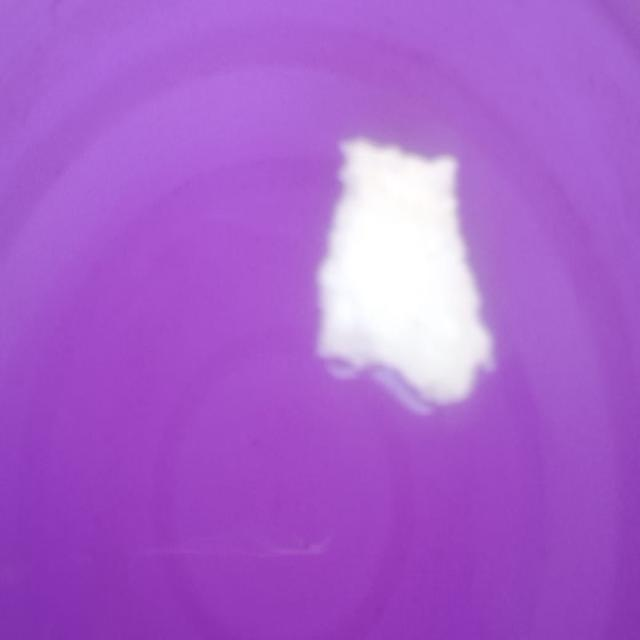litter: (324, 122, 498, 404)
